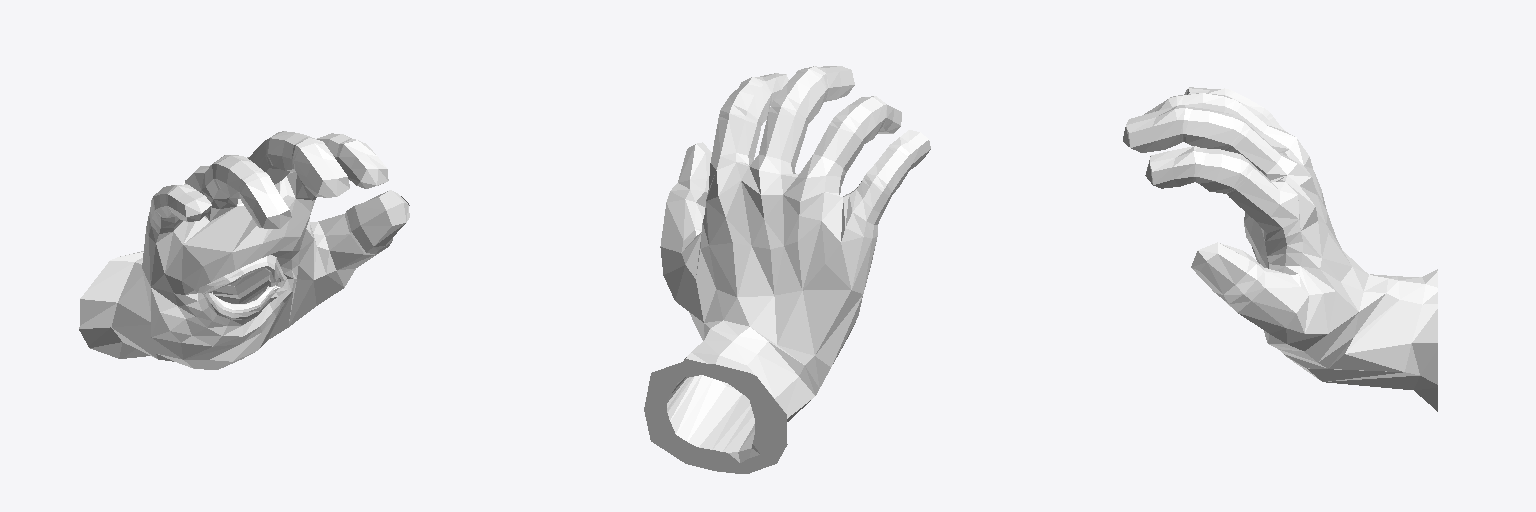
The model's file is hand.obj.
The picture shows the model from 3 angles: view 1: azimuth 30°, elevation 25°; view 2: azimuth 150°, elevation 25°; view 3: azimuth 270°, elevation 25°; orthographic projection.
Visible parts, largest first — view 1: obj_0; view 2: obj_0; view 3: obj_0.
Part boxes in pixels (left/top/right/bottom): obj_0: left=79, top=131, right=409, bottom=369; obj_0: left=644, top=66, right=930, bottom=473; obj_0: left=1123, top=87, right=1437, bottom=411.
Bounding box in the file's own units: 104 × 129 × 122.